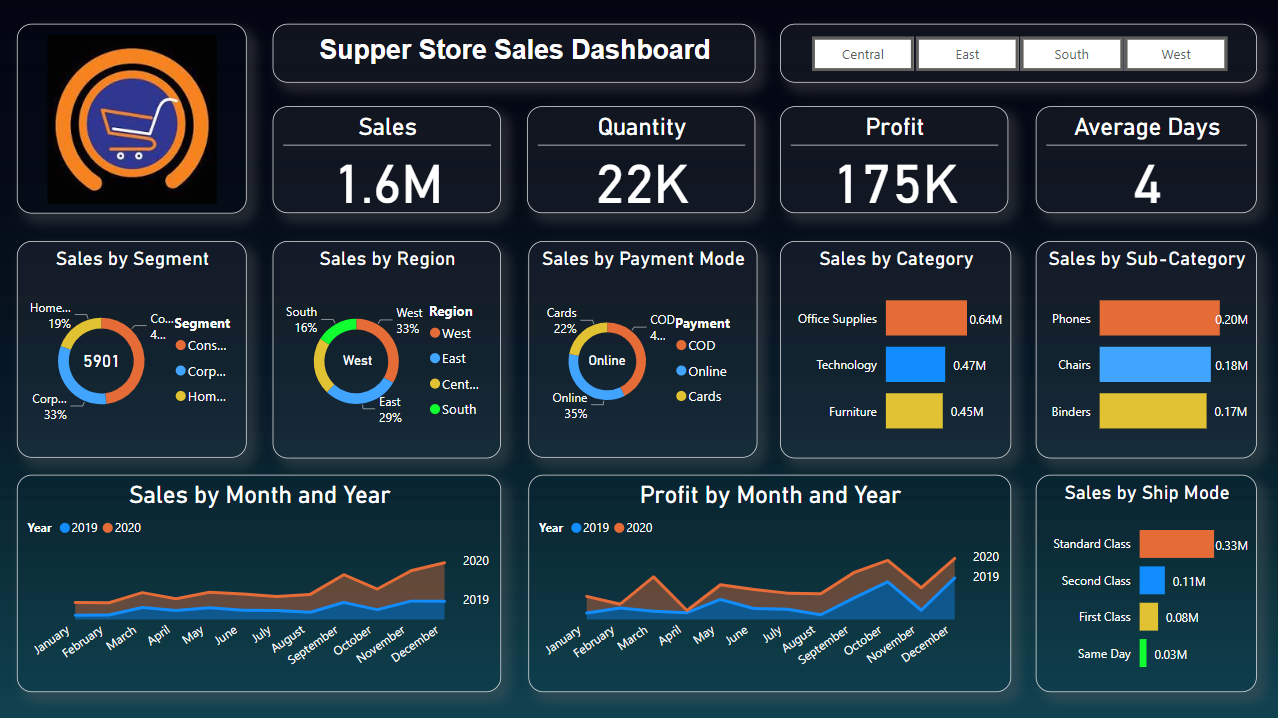

Layout of this report page (visuals, bound fields, positions):
{"tool":"powerbi","page":{"name":"Page 1","canvas":[1280,720],"ordinal":0},"visuals":[{"type":"clusteredBarChart","fields":{"Category":["SuperStore_Sales_Dataset.Category"],"Y":["Sum(SuperStore_Sales_Dataset.Sales)"]},"box":[781.4,241.4,231.4,217.1],"z":0},{"type":"clusteredBarChart","fields":{"Category":["SuperStore_Sales_Dataset.Sub-Category"],"Y":["Sum(SuperStore_Sales_Dataset.Sales)"]},"box":[1037.1,241.4,221.4,217.1],"z":1000},{"type":"clusteredBarChart","fields":{"Category":["SuperStore_Sales_Dataset.Ship Mode"],"Y":["Sum(SuperStore_Sales_Dataset.Sales)"]},"box":[1037.1,475.7,221.4,217.1],"z":2000},{"type":"stackedAreaChart","fields":{"Y":["Sum(SuperStore_Sales_Dataset.Sales)"],"Category":["SuperStore_Sales_Dataset.Order Date.Variation.Date Hierarchy.Month","SuperStore_Sales_Dataset.Order Date.Variation.Date Hierarchy.Day"],"Series":["SuperStore_Sales_Dataset.Order Date.Variation.Date Hierarchy.Year"]},"box":[17.9,475.8,484.1,217.3],"z":3000},{"type":"stackedAreaChart","fields":{"Category":["SuperStore_Sales_Dataset.Order Date.Variation.Date Hierarchy.Month","SuperStore_Sales_Dataset.Order Date.Variation.Date Hierarchy.Day"],"Series":["SuperStore_Sales_Dataset.Order Date.Variation.Date Hierarchy.Year"],"Y":["Sum(SuperStore_Sales_Dataset.Profit)"]},"box":[529.5,475.8,482.7,217.3],"z":4000},{"type":"donutChart","title":"Sales by Region","fields":{"Category":["SuperStore_Sales_Dataset.Region"],"Y":["Sum(SuperStore_Sales_Dataset.Sales)"]},"box":[274.3,241.4,228.6,217.1],"z":5000},{"type":"donutChart","title":"Sales by Payment Mode","fields":{"Category":["SuperStore_Sales_Dataset.Payment Mode"],"Y":["Sum(SuperStore_Sales_Dataset.Sales)"]},"box":[529,241.5,229,217],"z":6000},{"type":"slicer","fields":{"Values":["SuperStore_Sales_Dataset.Region"]},"box":[781.4,24.3,477.1,58.6],"z":7000},{"type":"textbox","box":[274.3,24.3,482.9,58.6],"z":8000},{"type":"card","title":"Sales","fields":{"Values":["Sum(SuperStore_Sales_Dataset.Sales)"]},"box":[274.3,107.1,228.6,107.1],"z":9000},{"type":"card","title":"Quantity","fields":{"Values":["Sum(SuperStore_Sales_Dataset.Quantity)"]},"box":[528.6,107.1,228.6,107.1],"z":10000},{"type":"card","title":"Profit","fields":{"Values":["Sum(SuperStore_Sales_Dataset.Profit)"]},"box":[781.4,107.1,228.6,107.1],"z":11000},{"type":"card","title":"Average Days","fields":{"Values":["Avg(SuperStore_Sales_Dataset.AvgDelivery)"]},"box":[1037.1,107.1,221.4,107.1],"z":12000},{"type":"card","fields":{"Values":["CountNonNull(SuperStore_Sales_Dataset.Segment)"]},"box":[78.5,341.5,47.5,43.5],"z":13000},{"type":"donutChart","title":"Sales by Segment","fields":{"Y":["Sum(SuperStore_Sales_Dataset.Sales)"],"Category":["SuperStore_Sales_Dataset.Segment"]},"box":[18.2,242.7,230,216.4],"z":14000},{"type":"card","fields":{"Values":["Max(SuperStore_Sales_Dataset.Region)"]},"box":[331,346,54,33],"z":15000},{"type":"card","fields":{"Values":["Max(SuperStore_Sales_Dataset.Payment Mode)"]},"box":[583,346.5,50,31.5],"z":16000},{"type":"image","box":[17.9,24.8,229.7,189.8],"z":17000}]}

Visuals, with their boxes in screenshot pixels (x1, y1, x2, y2), scaled from the page's 1280x720 canvas onto the 1278x718 screenshot:
clusteredBarChart - SuperStore_Sales_Dataset.Category x Sum(SuperStore_Sales_Dataset.Sales): 780/241/1011/457
clusteredBarChart - SuperStore_Sales_Dataset.Sub-Category x Sum(SuperStore_Sales_Dataset.Sales): 1035/241/1257/457
clusteredBarChart - SuperStore_Sales_Dataset.Ship Mode x Sum(SuperStore_Sales_Dataset.Sales): 1035/474/1257/691
stackedAreaChart - Sum(SuperStore_Sales_Dataset.Sales) x SuperStore_Sales_Dataset.Order Date.Variation.Date Hierarchy.Month: 18/474/501/691
stackedAreaChart - SuperStore_Sales_Dataset.Order Date.Variation.Date Hierarchy.Month x SuperStore_Sales_Dataset.Order Date.Variation.Date Hierarchy.Day: 529/474/1011/691
"Sales by Region" donutChart: 274/241/502/457
"Sales by Payment Mode" donutChart: 528/241/757/457
slicer - SuperStore_Sales_Dataset.Region: 780/24/1257/83
textbox: 274/24/756/83
"Sales" card: 274/107/502/214
"Quantity" card: 528/107/756/214
"Profit" card: 780/107/1008/214
"Average Days" card: 1035/107/1257/214
card - CountNonNull(SuperStore_Sales_Dataset.Segment): 78/341/126/384
"Sales by Segment" donutChart: 18/242/248/458
card - Max(SuperStore_Sales_Dataset.Region): 330/345/384/378
card - Max(SuperStore_Sales_Dataset.Payment Mode): 582/346/632/377
image: 18/25/247/214
